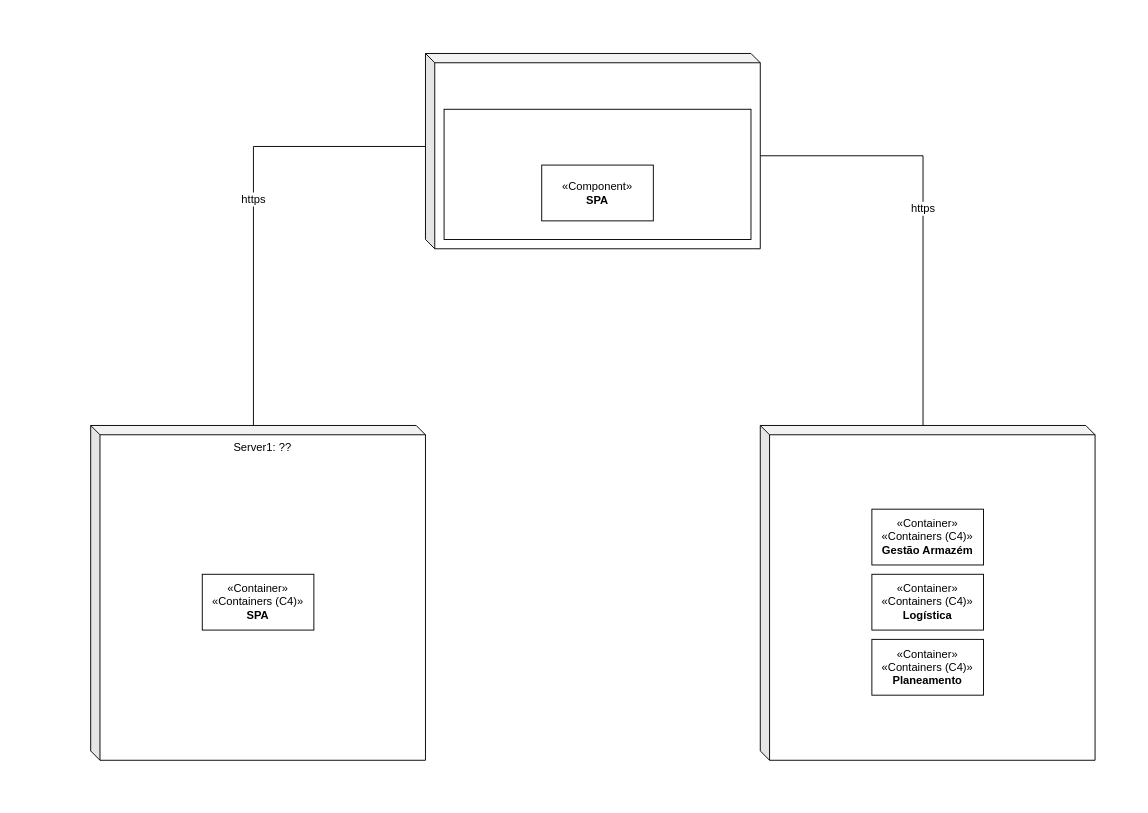
Image size: 1148x813. Some labels were removed from this diagram. The box of each missing label's shape, as (x1, y1, x2, y2) in pixels:
Localhost: ??: (425, 53, 760, 249)
Server2: ??: (759, 425, 1095, 760)
«Component» Browser: (443, 108, 751, 239)
